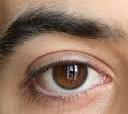open: (19, 47, 126, 104)
